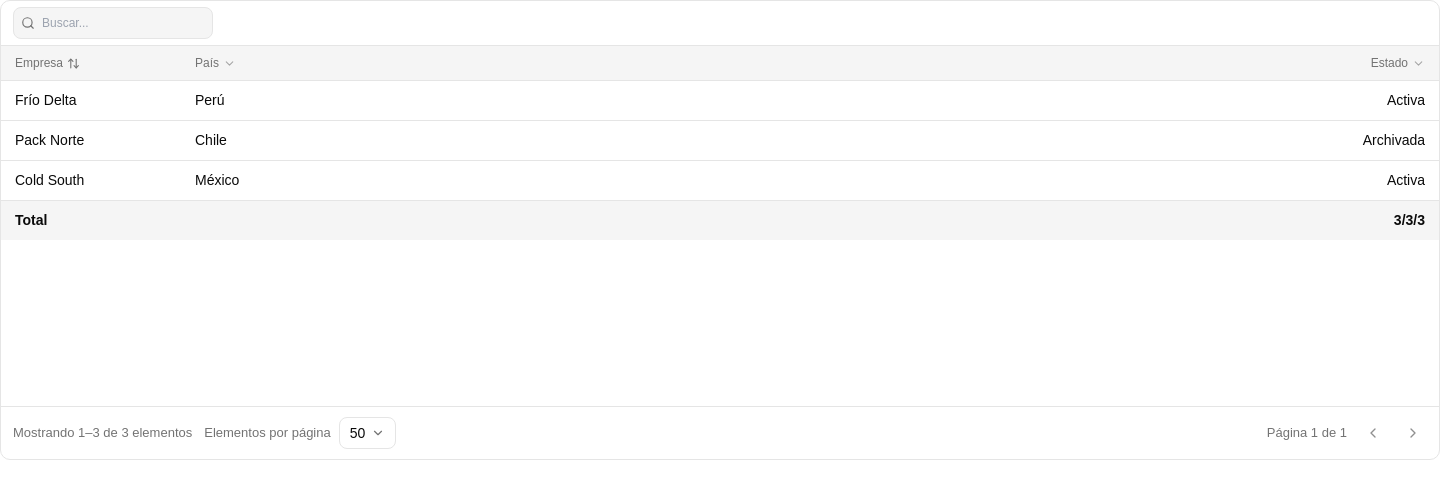
Test case: the totals follow the filters
Click the button "Estado": (1389, 63) [824,54,1425,72]
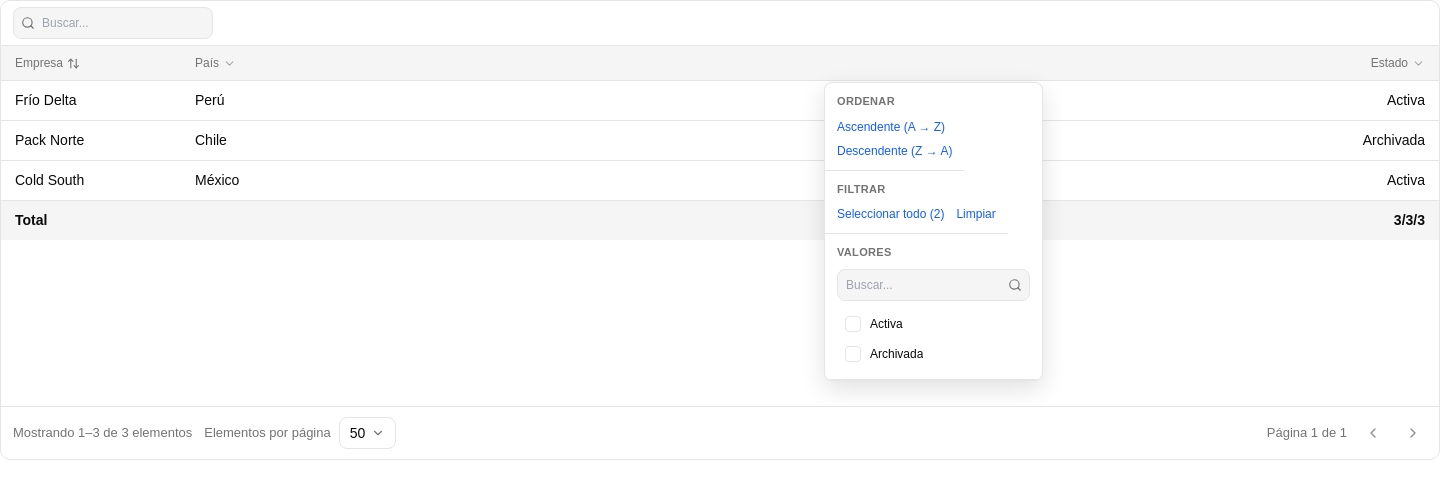
Click the button "Activa": (934, 324) [837,308,1030,338]
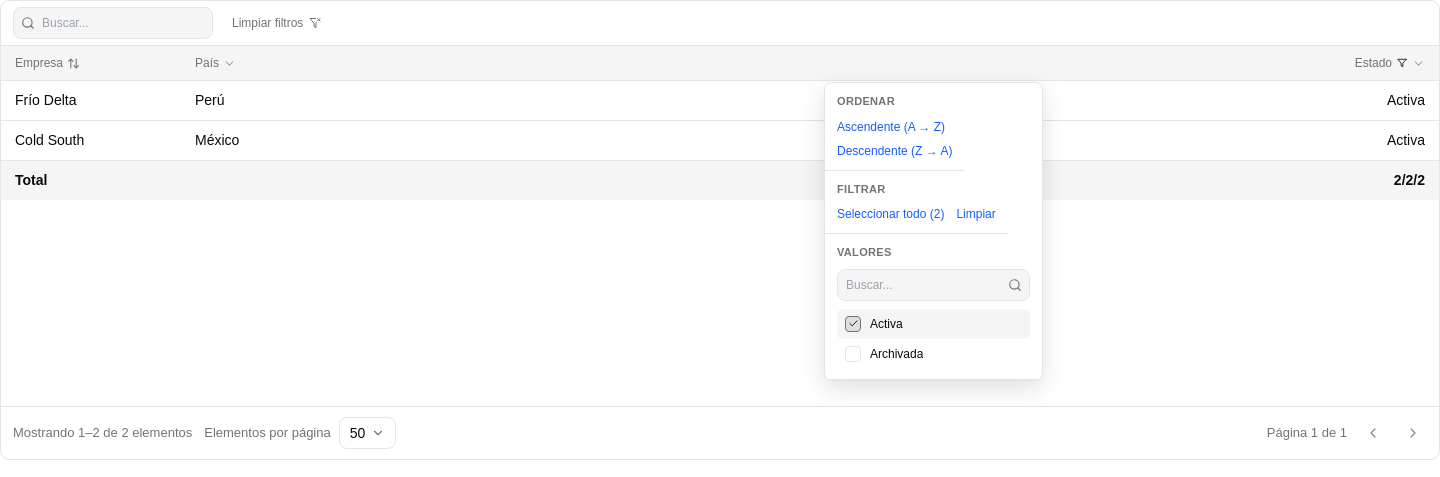
Expected: the cell "2/2/2" is shown, [810,160,1439,200]
